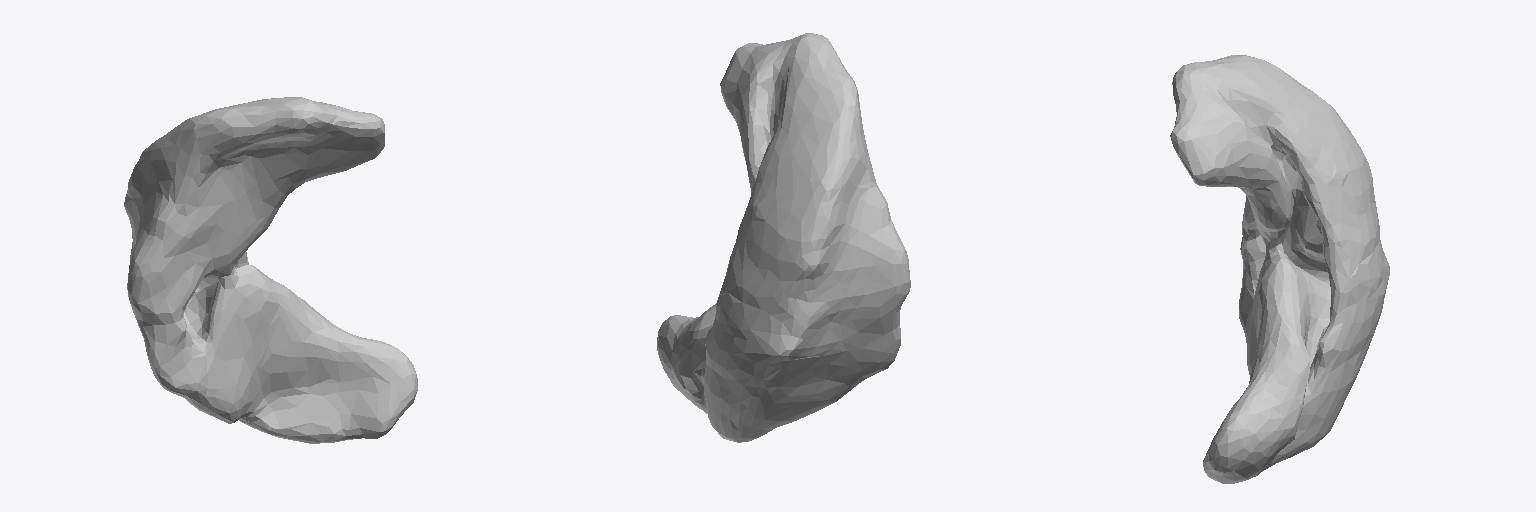
File: line_20190119_E1_cav_kdo_5000.obj
3 views of the same model, side by side, from view 1: azimuth 30°, elevation 25°; view 2: azimuth 150°, elevation 25°; view 3: azimuth 270°, elevation 25° (orthographic).
Size of the model in its own units: 504 by 678 by 359.